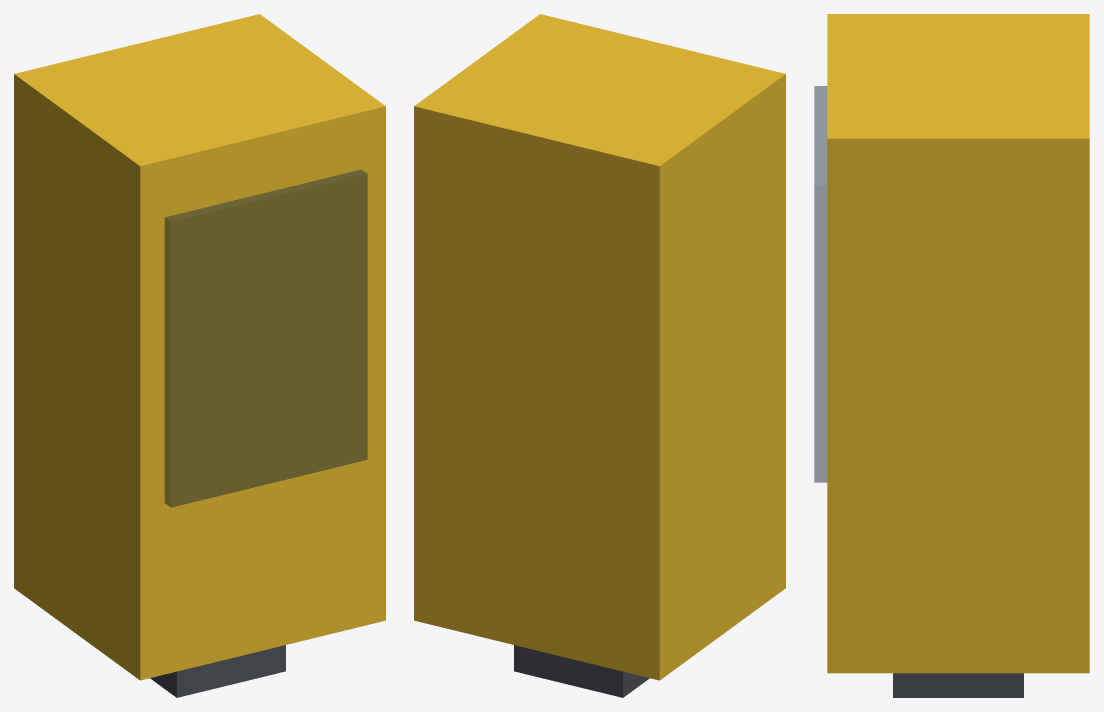
File: newsbox.glb
The picture shows the model from 3 angles, left to right: view 1: azimuth 30°, elevation 25°; view 2: azimuth 150°, elevation 25°; view 3: azimuth 270°, elevation 25°; orthographic projection. The views are drawn at different scales.
Visible parts, largest first — view 1: newsbox; view 2: newsbox; view 3: newsbox.
Part boxes in pixels (x1,y1,x2,y2): newsbox: (14,14,385,697); newsbox: (414,14,785,697); newsbox: (814,14,1089,697).
Bounding box in the file's own units: 0.45 × 1 × 0.42.
